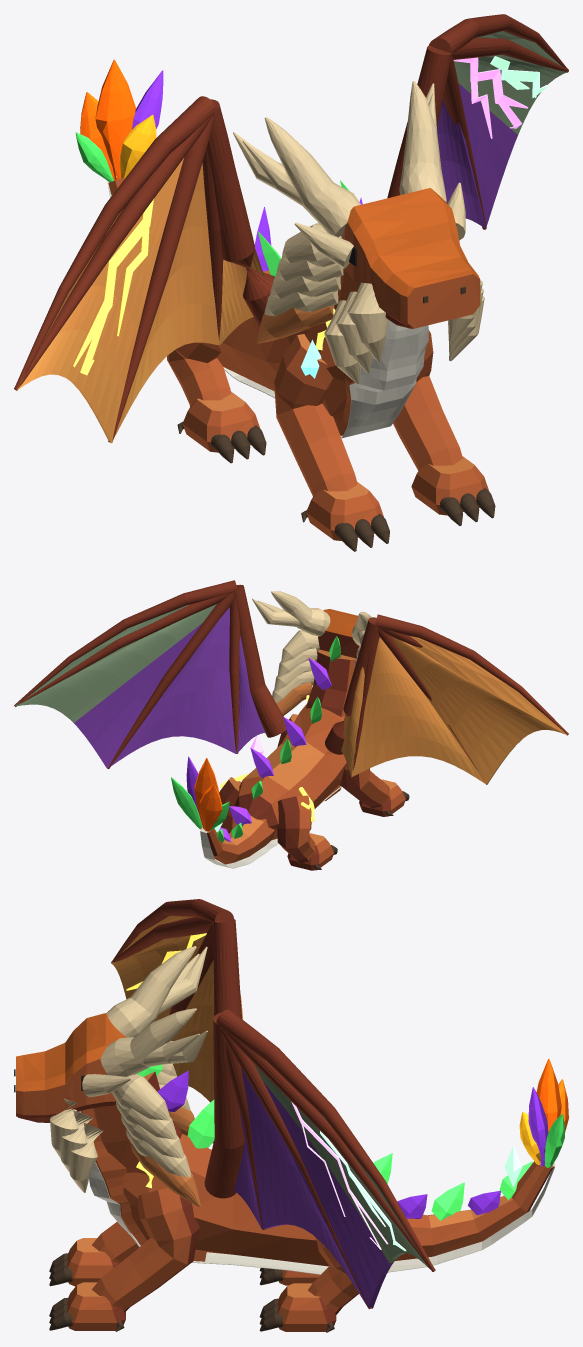
File: phoenix.glb
3 renders of one model, top to bottom at view 1: azimuth 30°, elevation 25°; view 2: azimuth 150°, elevation 25°; view 3: azimuth 270°, elevation 25°, orthographic. The views are drawn at different scales.
Parts seen in each view (by area): view 1: Body — one continuous source thorax scapula arms wrists pelv, Head — one coherent source angular cheek to blunt broad muzz, Wing — right V4 broad source scalloped membrane 1, Wing — right V4 broad source scalloped membrane 2, Wing — left V4 broad source scalloped membrane 1, Throat — V7 one continuous fitted ivory throat breast whole , Wing — right V4 broad bent leading border, Wing — right V4 connected bent shoulder elbow spar, Wing — right V4 organic long finger 2, Wing — right V4 organic long finger 1, Horn — right organically bent thick source horn, Horn — left organically bent thick source horn (+26 smaller); view 2: Body — one continuous source thorax scapula arms wrists pelv, Wing — left V4 broad source scalloped membrane 1, Wing — right V4 broad source scalloped membrane 1, Wing — right V4 broad source scalloped membrane 2, Wing — left V4 broad source scalloped membrane 2, Wing — left V4 connected bent shoulder elbow spar, Wing — left V4 broad bent leading border, Wing — right V4 broad bent leading border, Wing — left V4 organic long finger 2, Wing — left V4 organic long finger 1, Wing — right V4 connected bent shoulder elbow spar, Wing — left V4 attached proximal source membrane (+19 smaller); view 3: Body — one continuous source thorax scapula arms wrists pelv, Wing — left V4 broad source scalloped membrane 1, Head — one coherent source angular cheek to blunt broad muzz, Wing — left V4 broad source scalloped membrane 2, Wing — left V4 broad bent leading border, Wing — left V4 connected bent shoulder elbow spar, Throat — V7 one continuous fitted ivory throat breast whole , Horn — right organically bent thick source horn, Wing — right V4 broad source scalloped membrane 2, Horn — left organically bent thick source horn, Wing — left V4 organic long finger 1, Wing — right V4 connected bent shoulder elbow spar (+30 smaller).
Boxes of the visible parts, <box> form: Body — one continuous source thorax scapula arms wrists pelv: <box>108,178,489,540</box>; Head — one coherent source angular cheek to blunt broad muzz: <box>342,188,480,328</box>; Wing — right V4 broad source scalloped membrane 1: <box>16,158,183,443</box>; Wing — right V4 broad source scalloped membrane 2: <box>111,163,219,442</box>; Wing — left V4 broad source scalloped membrane 1: <box>454,31,567,228</box>; Throat — V7 one continuous fitted ivory throat breast whole : <box>107,176,428,438</box>; Wing — right V4 broad bent leading border: <box>14,96,216,389</box>; Wing — right V4 connected bent shoulder elbow spar: <box>207,99,274,326</box>; Wing — right V4 organic long finger 2: <box>108,115,214,442</box>; Wing — right V4 organic long finger 1: <box>14,115,212,390</box>; Horn — right organically bent thick source horn: <box>264,117,360,237</box>; Horn — left organically bent thick source horn: <box>399,81,446,202</box>; Body — one continuous source thorax scapula arms wrists pelv: <box>200,649,405,870</box>; Wing — left V4 broad source scalloped membrane 1: <box>14,604,216,768</box>; Wing — right V4 broad source scalloped membrane 1: <box>392,636,566,784</box>; Wing — right V4 broad source scalloped membrane 2: <box>351,637,485,783</box>; Wing — left V4 broad source scalloped membrane 2: <box>107,607,235,768</box>; Wing — left V4 connected bent shoulder elbow spar: <box>234,584,286,737</box>; Wing — left V4 broad bent leading border: <box>15,580,237,704</box>; Wing — right V4 broad bent leading border: <box>375,614,568,734</box>; Wing — left V4 organic long finger 2: <box>108,592,234,768</box>; Wing — left V4 organic long finger 1: <box>14,592,232,706</box>; Wing — right V4 connected bent shoulder elbow spar: <box>325,617,378,754</box>; Wing — left V4 attached proximal source membrane: <box>236,636,265,753</box>; Body — one continuous source thorax scapula arms wrists pelv: <box>66,1071,553,1331</box>; Wing — left V4 broad source scalloped membrane 1: <box>254,1064,435,1308</box>; Head — one coherent source angular cheek to blunt broad muzz: <box>16,1013,126,1117</box>; Wing — left V4 broad source scalloped membrane 2: <box>239,1068,367,1306</box>; Wing — left V4 broad bent leading border: <box>216,1009,434,1270</box>; Wing — left V4 connected bent shoulder elbow spar: <box>204,1012,244,1198</box>; Throat — V7 one continuous fitted ivory throat breast whole : <box>78,1111,555,1274</box>; Horn — right organically bent thick source horn: <box>106,946,196,1037</box>; Wing — right V4 broad source scalloped membrane 2: <box>172,960,214,1102</box>; Horn — left organically bent thick source horn: <box>100,1008,196,1076</box>; Wing — left V4 organic long finger 1: <box>220,1028,435,1271</box>; Wing — right V4 connected bent shoulder elbow spar: <box>212,919,241,1143</box>.
Bounding box in the file's own units: 4.08 × 2.08 × 3.06.
